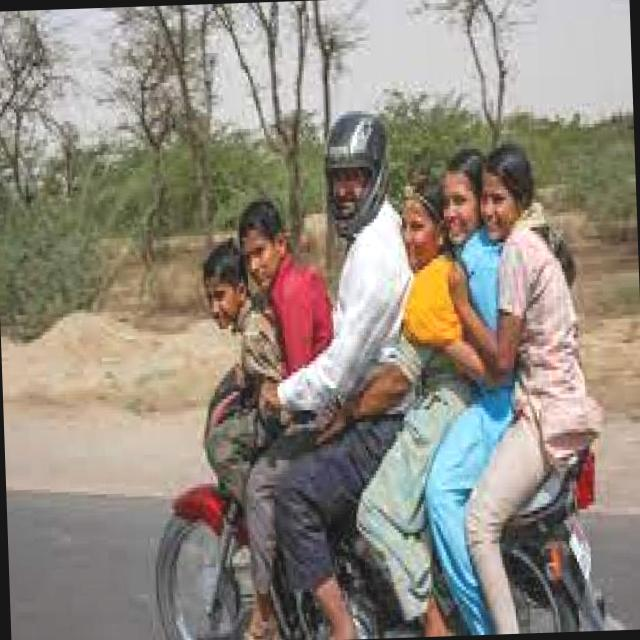motorcycle: (125, 341, 635, 640)
person: (256, 105, 418, 501), (440, 132, 582, 499), (207, 191, 324, 450), (422, 142, 498, 496), (386, 168, 461, 446), (182, 233, 262, 486)
rider_region: (127, 104, 609, 640)
